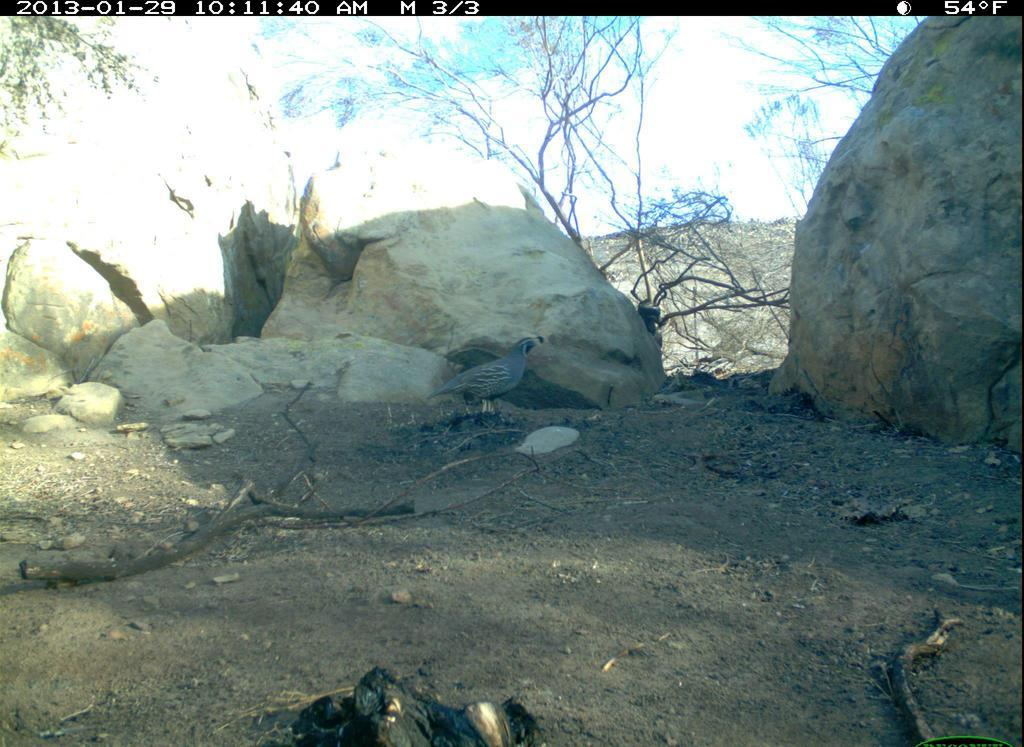bird: (427, 330, 561, 424)
